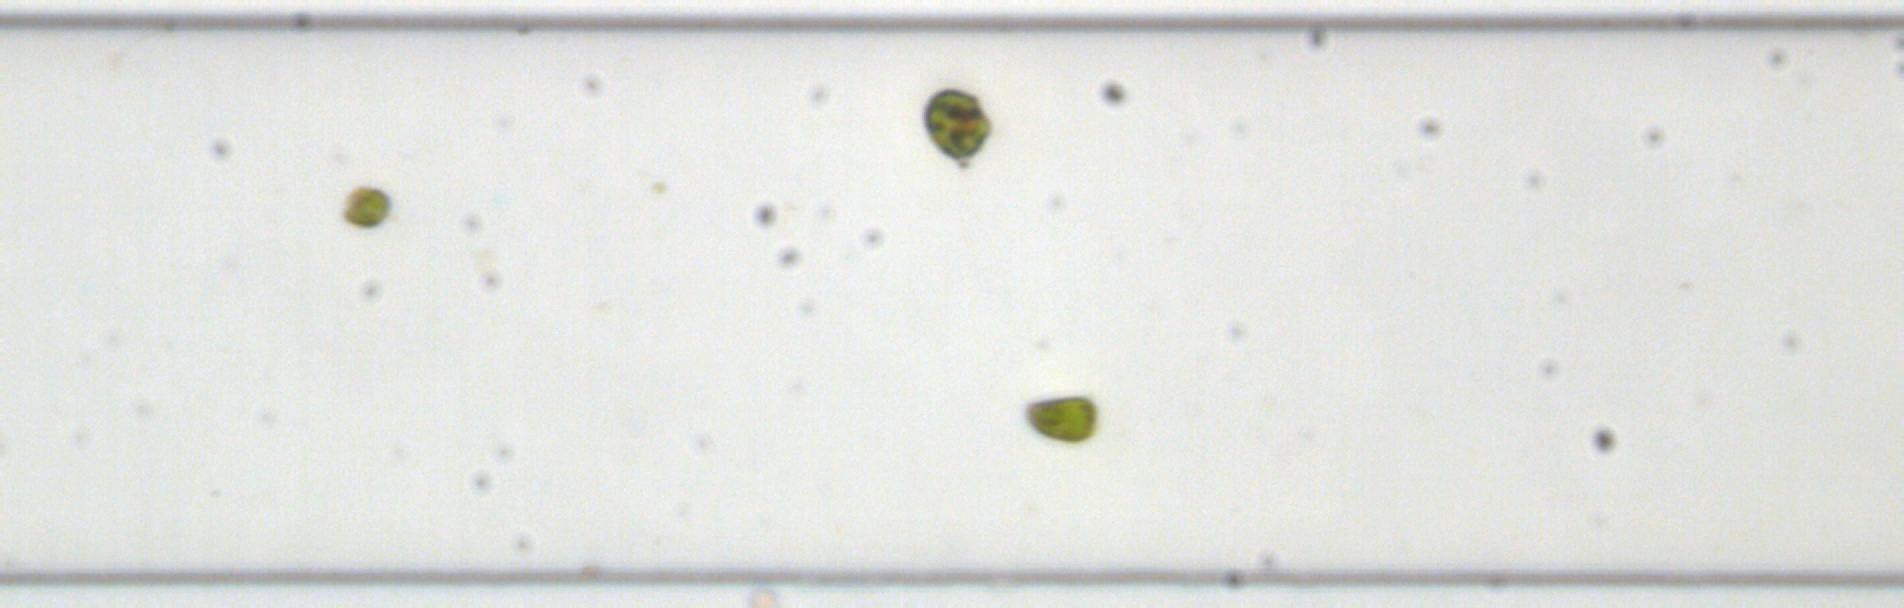Chlorella: (648, 178, 667, 194)
Haematococcus: (917, 83, 996, 161)
Platymonas: (1022, 391, 1099, 447), (340, 183, 393, 231)
